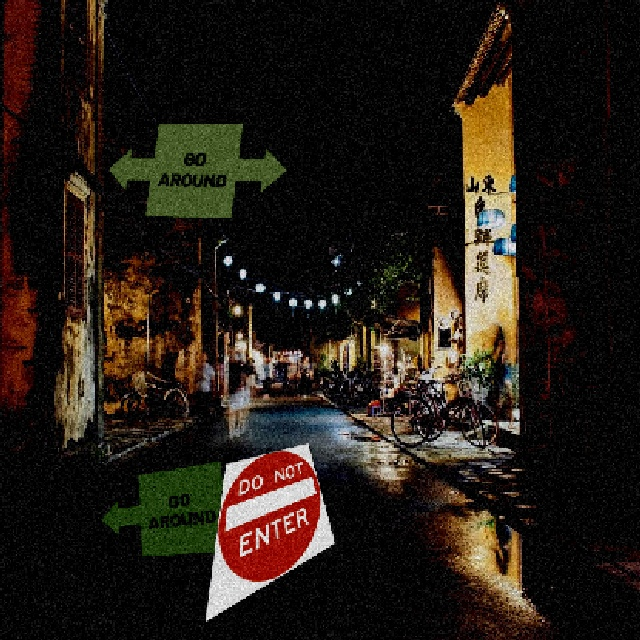DO_NOT_ENTER: (202, 441, 335, 624)
GO_AROUND: (98, 458, 281, 557), (105, 120, 288, 219)
